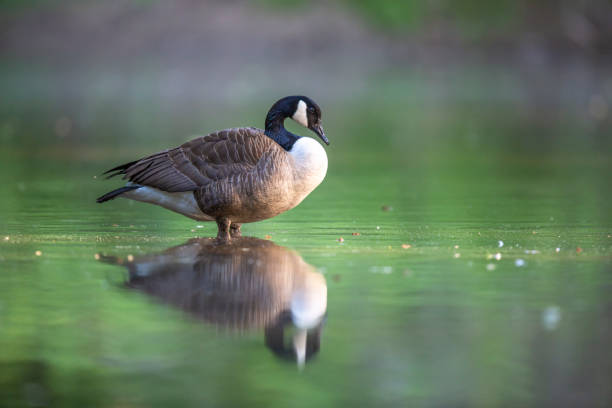goose: (91, 93, 332, 244)
